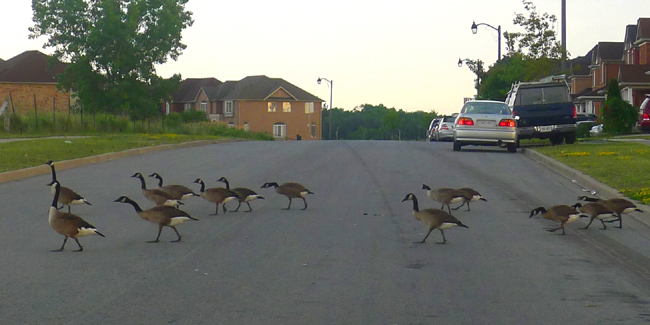goose: (43, 180, 105, 254), (113, 194, 198, 246), (400, 189, 470, 246), (43, 159, 90, 214), (129, 170, 187, 213), (578, 194, 643, 227), (420, 179, 484, 211), (216, 173, 262, 213), (190, 177, 237, 214), (259, 179, 313, 211), (528, 203, 580, 236), (150, 171, 193, 202), (571, 202, 611, 230)
